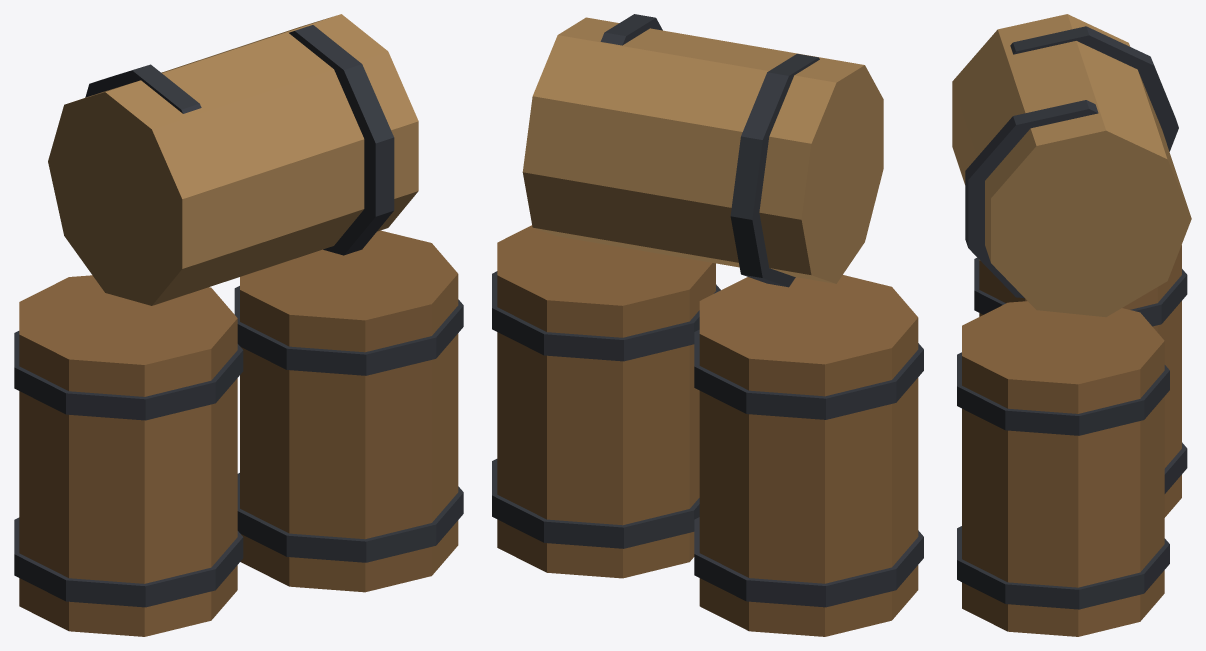
File: Scatter_BarrelStack.fbx
The picture shows the model from 3 angles, left to right: view 1: azimuth 30°, elevation 25°; view 2: azimuth 150°, elevation 25°; view 3: azimuth 270°, elevation 25°; orthographic projection. The views are drawn at different scales.
Parts seen in each view (by area): view 1: BarrelStack; view 2: BarrelStack; view 3: BarrelStack.
Boxes of the visible parts, left/top/right/bottom form: BarrelStack: left=14, top=14, right=463, bottom=636; BarrelStack: left=492, top=14, right=923, bottom=636; BarrelStack: left=952, top=14, right=1191, bottom=636.
Size of the model in its own units: 5.08 by 6.04 by 2.75.
